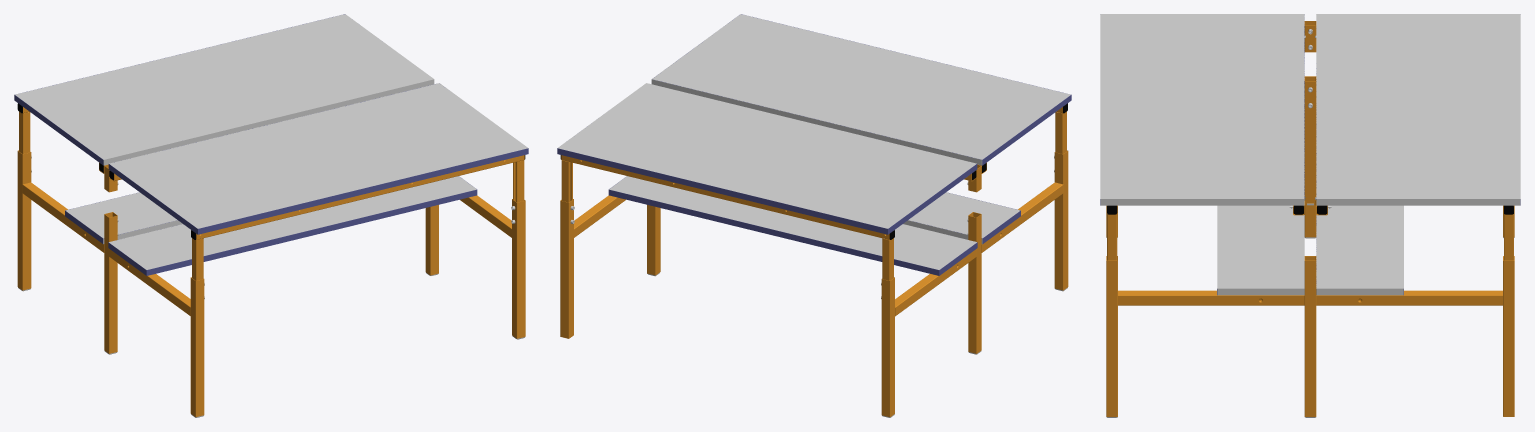
The model's file is table_no_top.gltf.
3 views of the same model, side by side, from view 1: azimuth 30°, elevation 25°; view 2: azimuth 150°, elevation 25°; view 3: azimuth 270°, elevation 25° (orthographic). The views are drawn at different scales.
Visible parts, largest first — view 1: Object_133.001, Object_131.001, Object_261.001, Object_263.001, Object_265.001, Object_269.001, Object_35.001, Object_43.001, Object_65.001, Object_45.001, Object_39.001, Object_41.001 (+7 smaller); view 2: Object_131.001, Object_133.001, Object_263.001, Object_261.001, Object_267.001, Object_271.001, Object_35.001, Object_43.001, Object_57.001, Object_51.001, Object_39.001, Object_37.001 (+7 smaller); view 3: Object_131.001, Object_133.001, Object_261.001, Object_263.001, Object_59.001, Object_63.001, Object_61.001, Object_57.001, Object_65.001, Object_39.001, Object_49.001, Object_55.001 (+1 smaller).
Part boxes in pixels (left/top/right/bottom): Object_133.001: left=15, top=14, right=434, bottom=165; Object_131.001: left=109, top=83, right=528, bottom=228; Object_261.001: left=109, top=176, right=476, bottom=269; Object_263.001: left=65, top=192, right=182, bottom=243; Object_265.001: left=108, top=85, right=528, bottom=234; Object_269.001: left=108, top=178, right=477, bottom=275; Object_35.001: left=190, top=277, right=204, bottom=416; Object_43.001: left=17, top=150, right=31, bottom=290; Object_65.001: left=512, top=199, right=525, bottom=338; Object_45.001: left=196, top=155, right=524, bottom=239; Object_39.001: left=104, top=212, right=117, bottom=353; Object_41.001: left=22, top=182, right=104, bottom=252; Object_131.001: left=651, top=14, right=1070, bottom=165; Object_133.001: left=558, top=83, right=976, bottom=228; Object_263.001: left=609, top=176, right=976, bottom=269; Object_261.001: left=903, top=192, right=1020, bottom=244; Object_267.001: left=557, top=148, right=977, bottom=234; Object_271.001: left=608, top=179, right=977, bottom=275; Object_35.001: left=1054, top=150, right=1068, bottom=290; Object_43.001: left=881, top=277, right=894, bottom=416; Object_57.001: left=560, top=199, right=573, bottom=338; Object_51.001: left=561, top=155, right=889, bottom=239; Object_39.001: left=968, top=212, right=981, bottom=353; Object_37.001: left=981, top=182, right=1063, bottom=252; Object_131.001: left=1100, top=14, right=1304, bottom=205; Object_133.001: left=1316, top=14, right=1520, bottom=205; Object_261.001: left=1217, top=205, right=1304, bottom=295; Object_263.001: left=1316, top=205, right=1403, bottom=295; Object_59.001: left=1316, top=290, right=1502, bottom=305; Object_63.001: left=1118, top=290, right=1304, bottom=305; Object_61.001: left=1304, top=256, right=1316, bottom=416; Object_57.001: left=1503, top=256, right=1514, bottom=416; Object_65.001: left=1106, top=256, right=1117, bottom=416; Object_39.001: left=1304, top=76, right=1316, bottom=237; Object_49.001: left=1107, top=214, right=1117, bottom=260; Object_55.001: left=1504, top=214, right=1513, bottom=260.
Size of the model in its own units: 1.5 by 0.8287 by 1.44.
